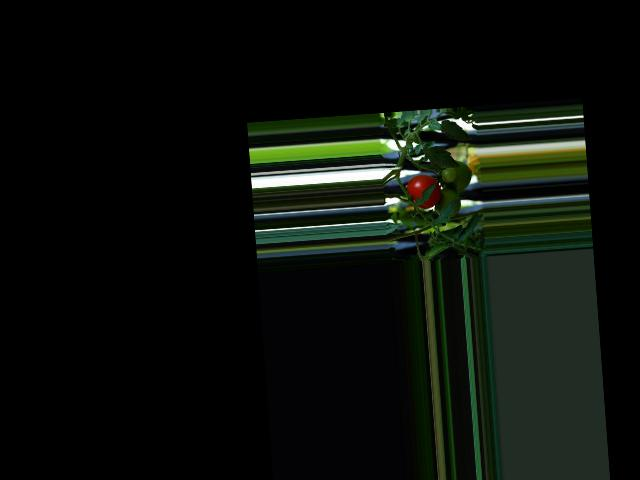tomato: (405, 173, 441, 209)
